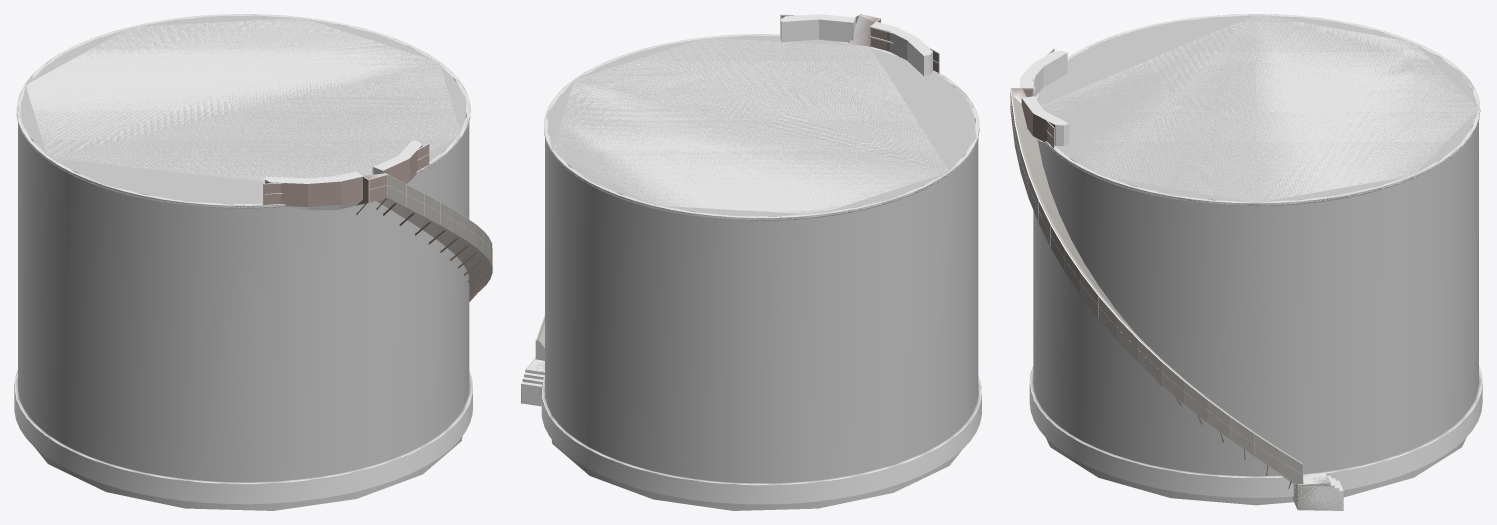
Rendered from s_oil_ref_tank.dae.
3 views of the same model, side by side, from view 1: azimuth 30°, elevation 25°; view 2: azimuth 150°, elevation 25°; view 3: azimuth 270°, elevation 25° (orthographic). The views are drawn at different scales.
Visible parts, largest first — view 1: s_oil_ref_tank_L3000, s_oil_ref_tank_L180, s_oil_ref_tank_L40, Colmesh_s_oil_ref_tank-1, s_oil_ref_tank_L800, s_oil_ref_tank_L350; view 2: s_oil_ref_tank_L3000, s_oil_ref_tank_L180, s_oil_ref_tank_L40, Colmesh_s_oil_ref_tank-1, s_oil_ref_tank_L800, s_oil_ref_tank_L350; view 3: s_oil_ref_tank_L3000, s_oil_ref_tank_L180, s_oil_ref_tank_L40, Colmesh_s_oil_ref_tank-1, s_oil_ref_tank_L800, s_oil_ref_tank_L350.
Part boxes in pixels (left/top/right/bottom): s_oil_ref_tank_L3000: left=14, top=14, right=492, bottom=504; s_oil_ref_tank_L180: left=20, top=15, right=466, bottom=510; s_oil_ref_tank_L40: left=26, top=18, right=459, bottom=181; Colmesh_s_oil_ref_tank-1: left=16, top=14, right=492, bottom=483; s_oil_ref_tank_L800: left=14, top=14, right=489, bottom=484; s_oil_ref_tank_L350: left=16, top=15, right=467, bottom=482; s_oil_ref_tank_L3000: left=521, top=14, right=981, bottom=504; s_oil_ref_tank_L180: left=547, top=35, right=976, bottom=510; s_oil_ref_tank_L40: left=553, top=38, right=947, bottom=213; Colmesh_s_oil_ref_tank-1: left=535, top=14, right=979, bottom=485; s_oil_ref_tank_L800: left=521, top=16, right=981, bottom=485; s_oil_ref_tank_L350: left=521, top=35, right=979, bottom=481; s_oil_ref_tank_L3000: left=1010, top=14, right=1482, bottom=502; s_oil_ref_tank_L180: left=1037, top=14, right=1478, bottom=505; s_oil_ref_tank_L40: left=1041, top=15, right=1477, bottom=201; Colmesh_s_oil_ref_tank-1: left=1010, top=14, right=1480, bottom=484; s_oil_ref_tank_L800: left=1029, top=14, right=1482, bottom=510; s_oil_ref_tank_L350: left=1036, top=14, right=1481, bottom=510.
Size of the model in its own units: 21.2 by 21.19 by 16.02.
